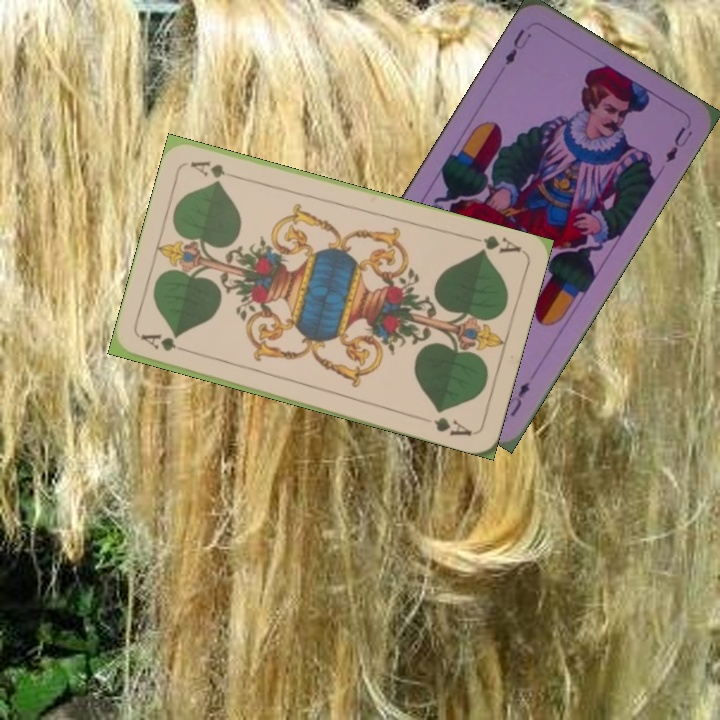EU: (499, 377, 533, 420), (501, 25, 534, 68)
GA: (137, 330, 195, 357), (466, 231, 524, 257)
